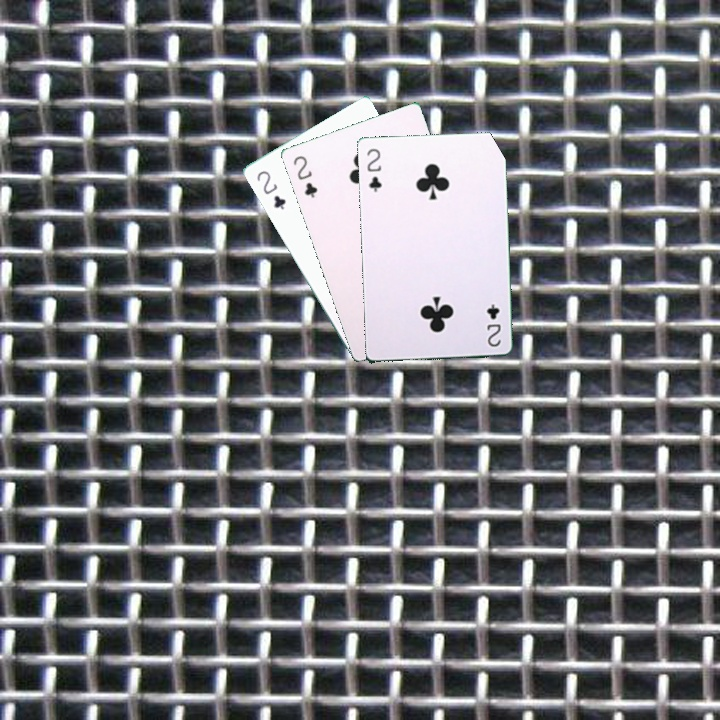2c: (253, 166, 288, 212), (289, 152, 320, 201), (363, 144, 384, 194), (483, 300, 503, 349)
